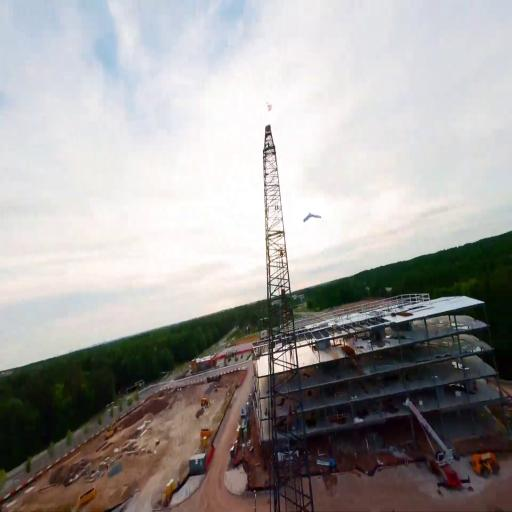uav: (303, 210, 322, 224)
